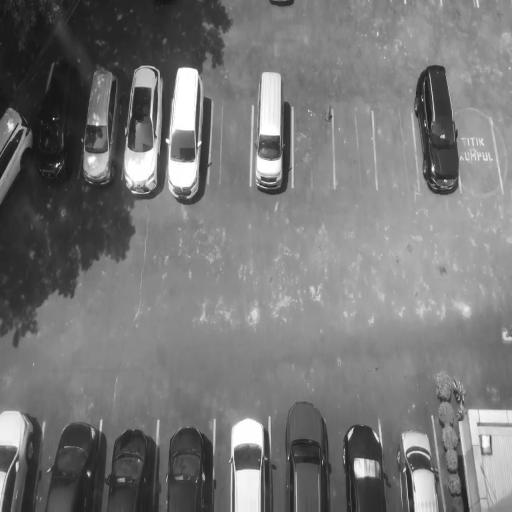Car: (413, 52, 461, 200), (41, 407, 105, 512), (168, 64, 208, 215), (37, 48, 79, 191), (125, 50, 162, 201), (284, 395, 331, 512), (252, 64, 292, 193), (105, 412, 158, 509), (1, 408, 48, 512), (84, 52, 117, 198), (1, 90, 39, 215), (167, 414, 216, 509), (397, 420, 446, 512), (229, 406, 271, 512), (343, 420, 386, 512)
Space Available: (376, 72, 418, 200), (292, 80, 332, 202), (210, 84, 251, 203), (455, 92, 501, 198), (332, 78, 374, 194)
